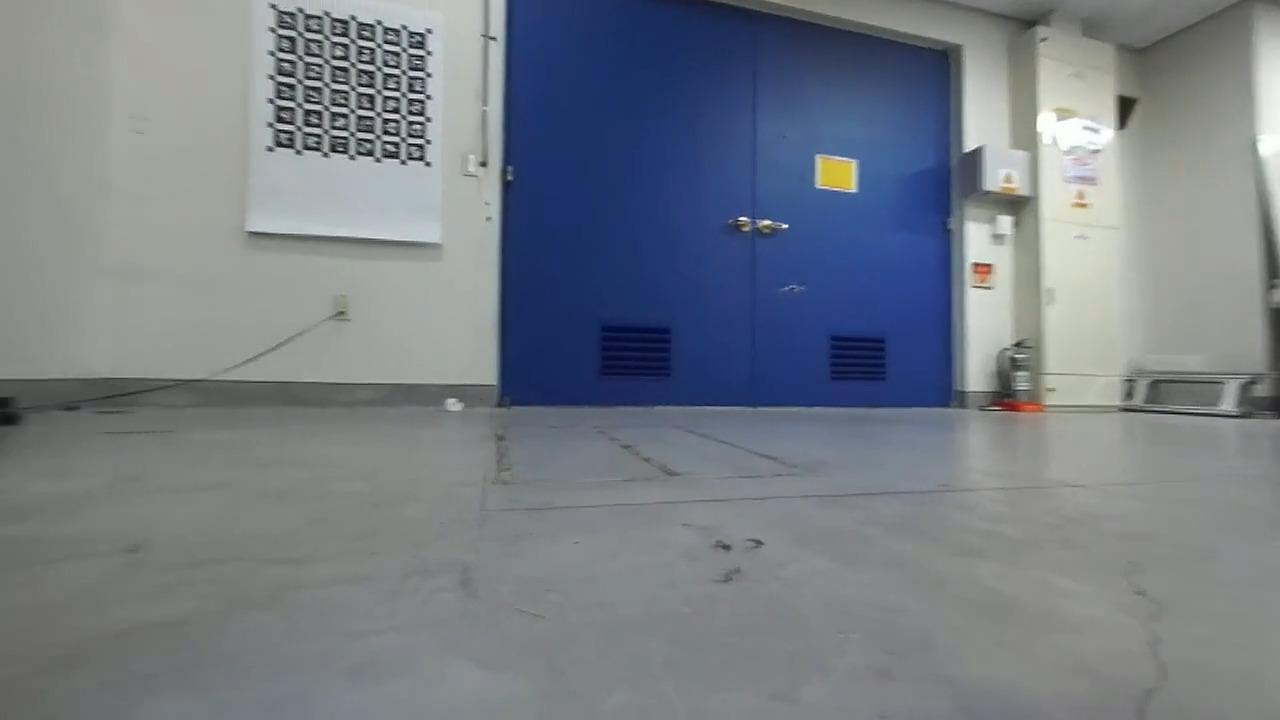crazyflie: (772, 279, 813, 300)
